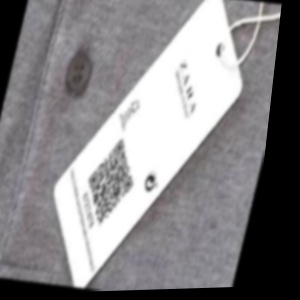zara: (81, 82, 273, 151)
